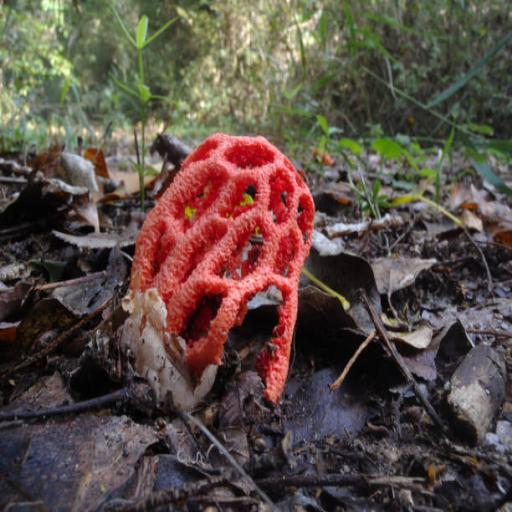Red Cage Fungus: (127, 134, 312, 405)
